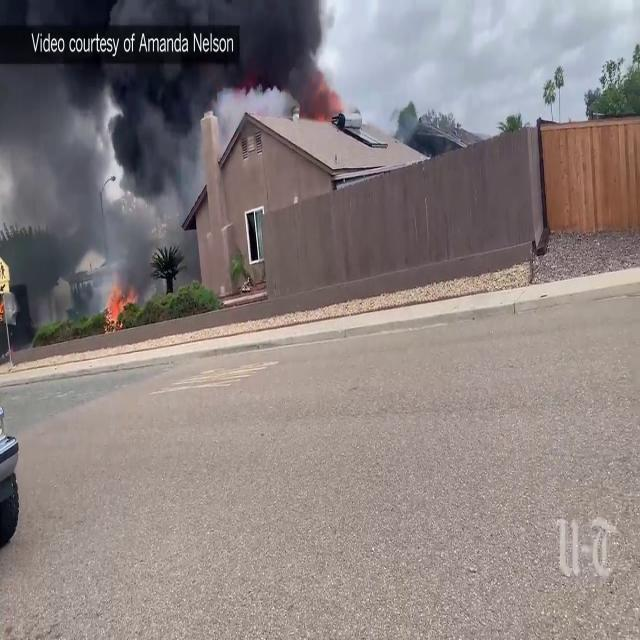Fire: (102, 272, 132, 324)
Smoke: (1, 0, 337, 280), (1, 0, 336, 189), (7, 0, 340, 120), (0, 66, 116, 317)
